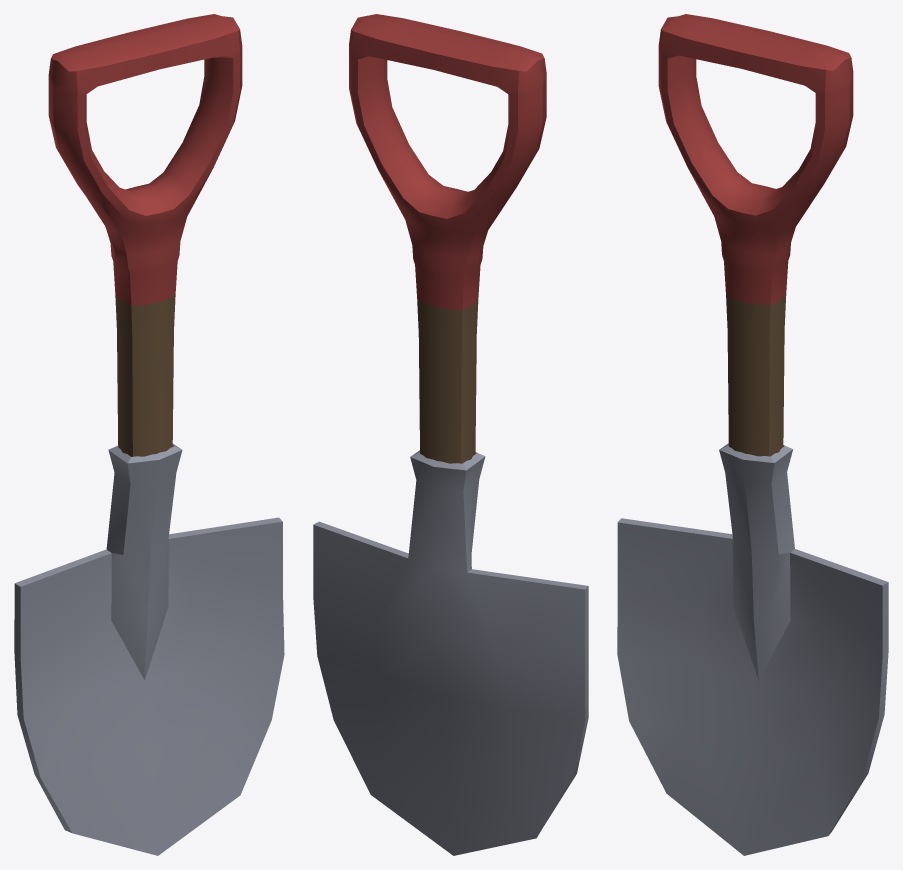
The model's file is shovel.glb.
The picture shows the model from 3 angles, left to right: view 1: azimuth 30°, elevation 25°; view 2: azimuth 150°, elevation 25°; view 3: azimuth 330°, elevation 25°; orthographic projection.
Visible parts, largest first — view 1: Cylinder025_1, Cylinder025_2, Cylinder025; view 2: Cylinder025_1, Cylinder025_2, Cylinder025; view 3: Cylinder025_1, Cylinder025_2, Cylinder025.
Part boxes in pixels (left/top/right/bottom): Cylinder025_1: left=14, top=443, right=284, bottom=855; Cylinder025_2: left=48, top=14, right=242, bottom=305; Cylinder025: left=115, top=294, right=175, bottom=456; Cylinder025_1: left=313, top=450, right=588, bottom=855; Cylinder025_2: left=349, top=14, right=546, bottom=309; Cylinder025: left=417, top=298, right=478, bottom=463; Cylinder025_1: left=617, top=443, right=888, bottom=855; Cylinder025_2: left=658, top=14, right=853, bottom=304; Cylinder025: left=726, top=294, right=786, bottom=456.
Size of the model in its own units: 0.4732 by 1.38 by 0.0926.
